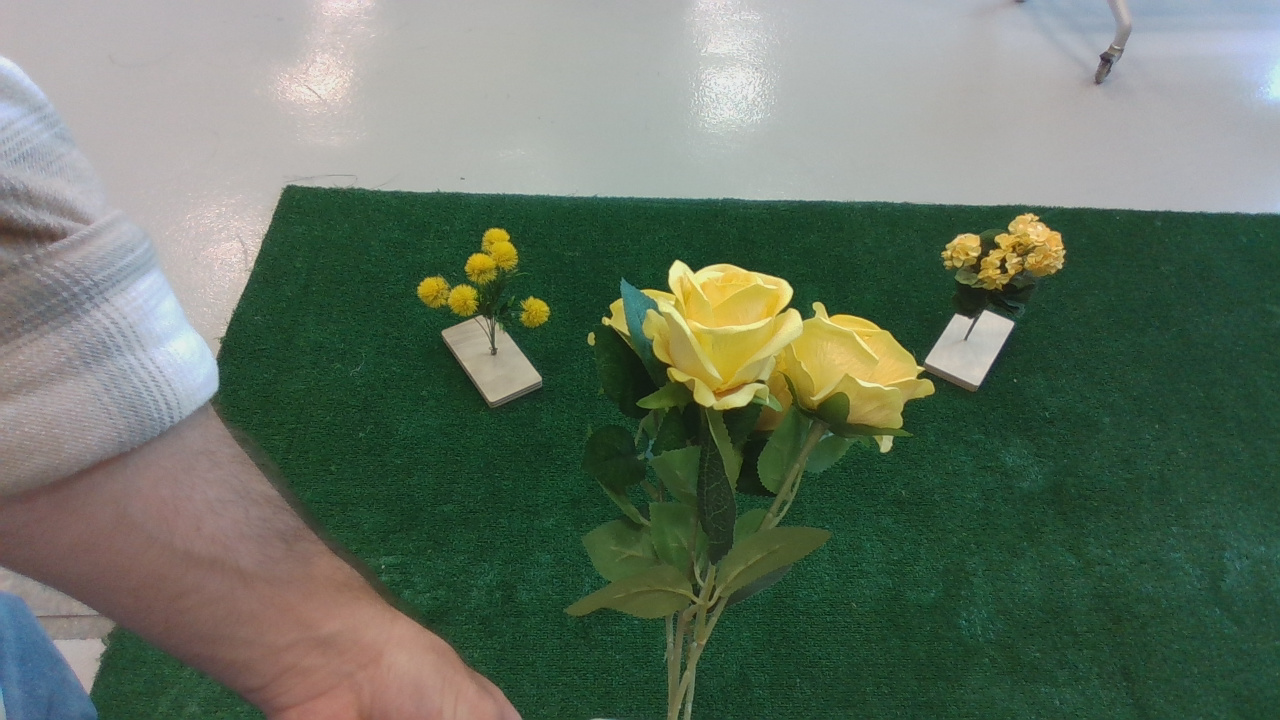dandelion: (415, 229, 562, 347)
geranium: (947, 213, 1080, 331)
rose: (589, 250, 933, 711)
